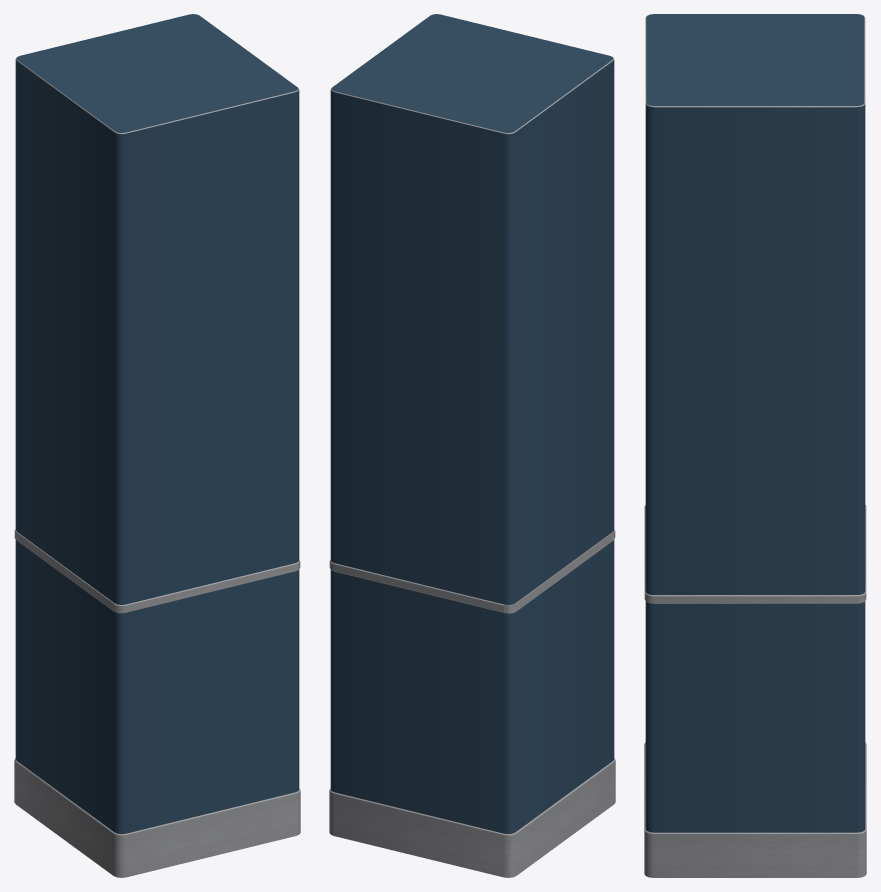
The model's file is gteki_column_square_800_accent.glb.
3 views of the same model, side by side, from view 1: azimuth 30°, elevation 25°; view 2: azimuth 150°, elevation 25°; view 3: azimuth 270°, elevation 25° (orthographic). The views are drawn at different scales.
Parts seen in each view (by area): view 1: VIS_body, VIS_trim; view 2: VIS_body, VIS_trim; view 3: VIS_body, VIS_trim.
Boxes of the visible parts, box(x1,y1,x2,y2) form: VIS_body: box(15, 14, 299, 834); VIS_trim: box(14, 529, 300, 877); VIS_body: box(330, 14, 614, 834); VIS_trim: box(329, 530, 615, 877); VIS_body: box(645, 14, 865, 832); VIS_trim: box(644, 505, 866, 877).
Size of what is drawn, in the model's own units: 0.81 by 3.1 by 0.81.
2 materials, 1 textured.
